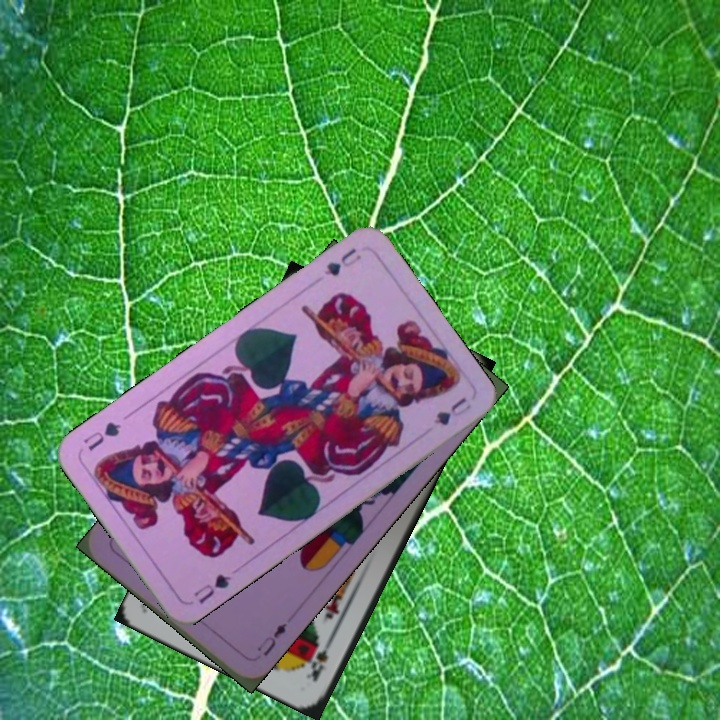EU: (253, 619, 290, 659)
GU: (190, 570, 234, 607), (320, 244, 364, 279)
SK: (301, 632, 337, 685)
